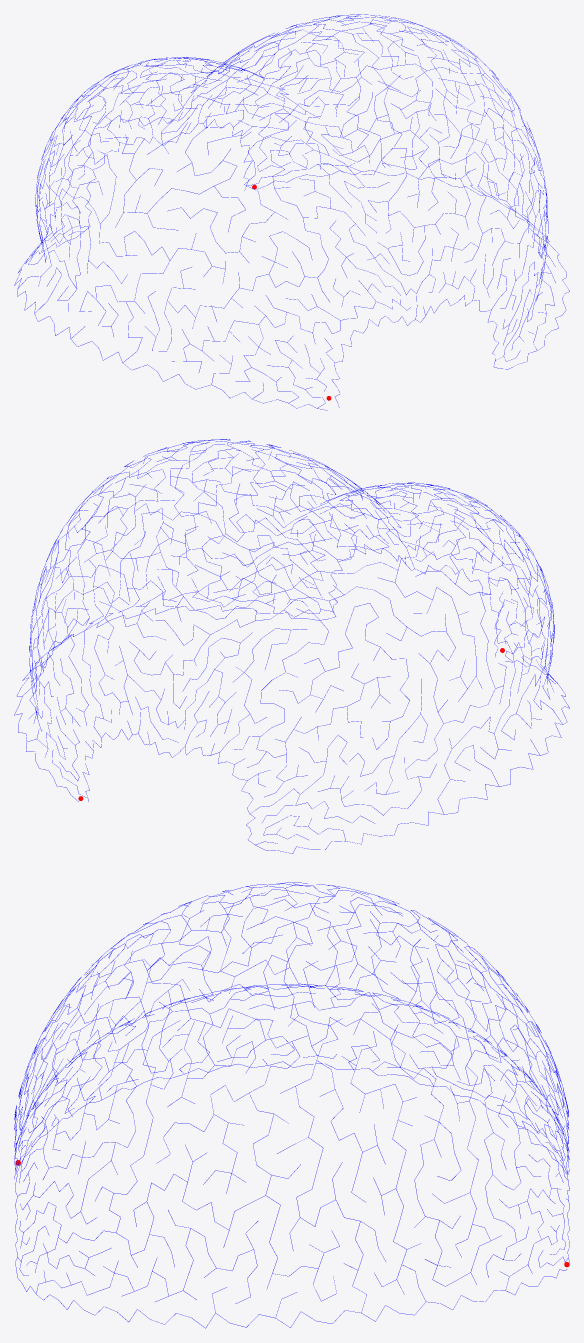
Rendered from middleTask2.glb.
The picture shows the model from 3 angles, top to bottom: view 1: azimuth 30°, elevation 25°; view 2: azimuth 150°, elevation 25°; view 3: azimuth 270°, elevation 25°; orthographic projection. The views are drawn at different scales.
Bounding box in the file's own units: 2.19 × 1.09 × 1.98.
